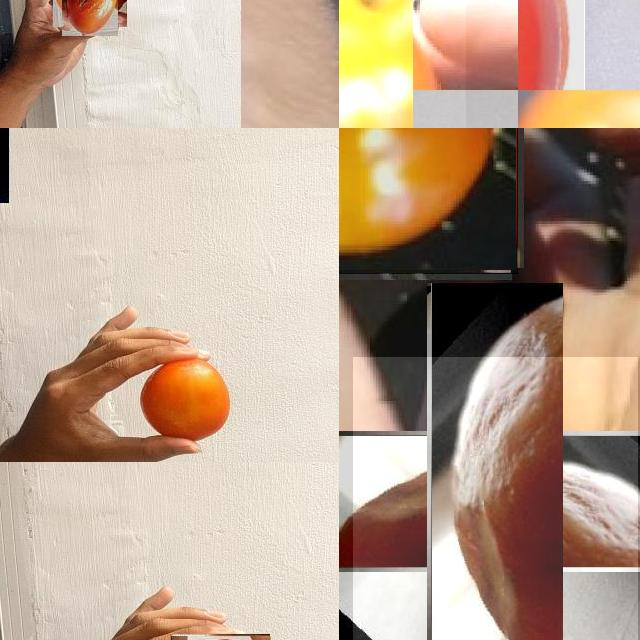Fresh Tomato: (518, 0, 584, 90), (0, 128, 9, 203)
Rotten Tomato: (353, 356, 637, 640), (339, 128, 516, 273), (339, 0, 465, 128), (57, 0, 122, 31)
